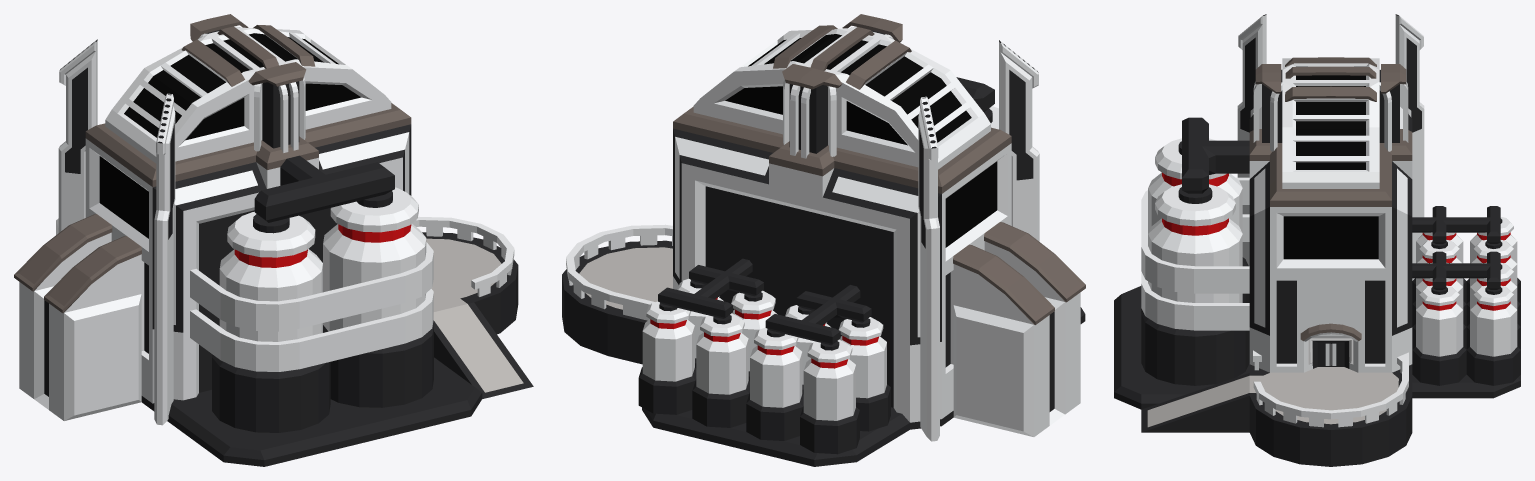
The model's file is Factory1.fbx.
3 views of the same model, side by side, from view 1: azimuth 30°, elevation 25°; view 2: azimuth 150°, elevation 25°; view 3: azimuth 270°, elevation 25° (orthographic). The views are drawn at different scales.
Visible parts, largest first — view 1: DrinkFactory_Body; view 2: DrinkFactory_Body; view 3: DrinkFactory_Body.
Boxes of the visible parts, left/top/right/bottom form: DrinkFactory_Body: left=14, top=14, right=533, bottom=466; DrinkFactory_Body: left=562, top=14, right=1085, bottom=466; DrinkFactory_Body: left=1114, top=14, right=1520, bottom=466.
Bounding box in the file's own units: 328 × 211 × 272.
